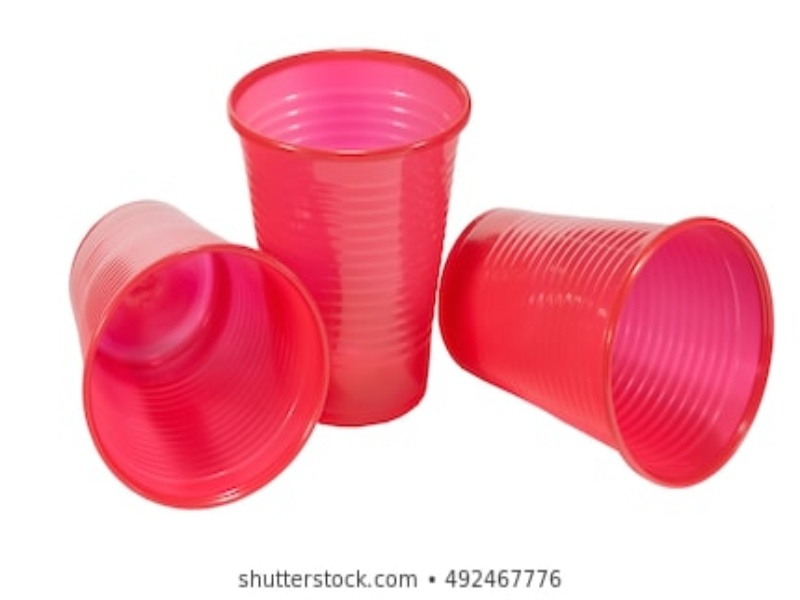plastic-cup: (225, 48, 473, 428), (440, 208, 774, 487), (67, 200, 329, 510)
